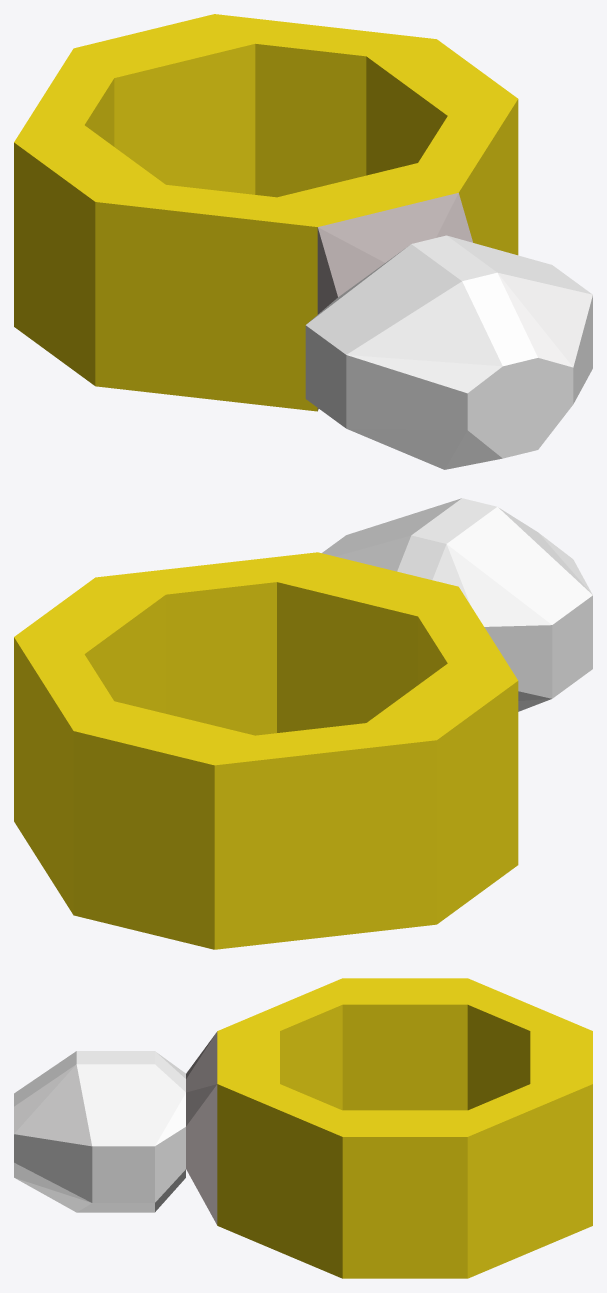
Rendered from inv_sapphire_ring.obj.
The picture shows the model from 3 angles, top to bottom: view 1: azimuth 30°, elevation 25°; view 2: azimuth 150°, elevation 25°; view 3: azimuth 270°, elevation 25°; orthographic projection. The views are drawn at different scales.
Size of the model in its own units: 0.1875 by 0.0781 by 0.2891.
